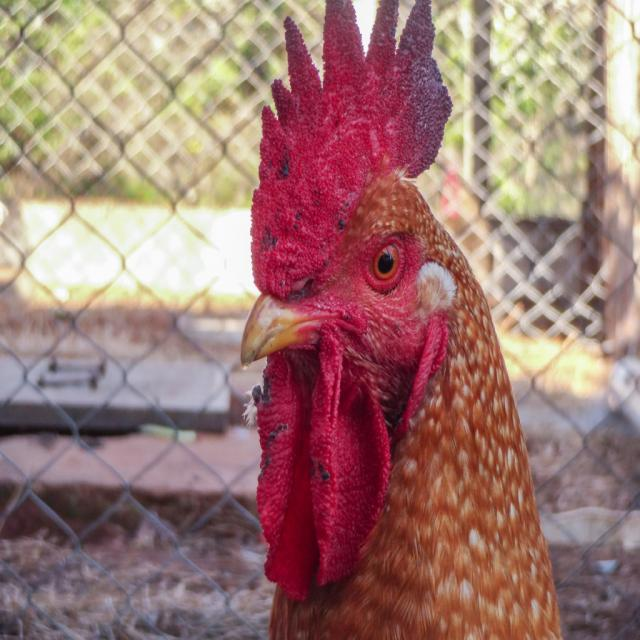Chicken: (239, 0, 561, 639)
